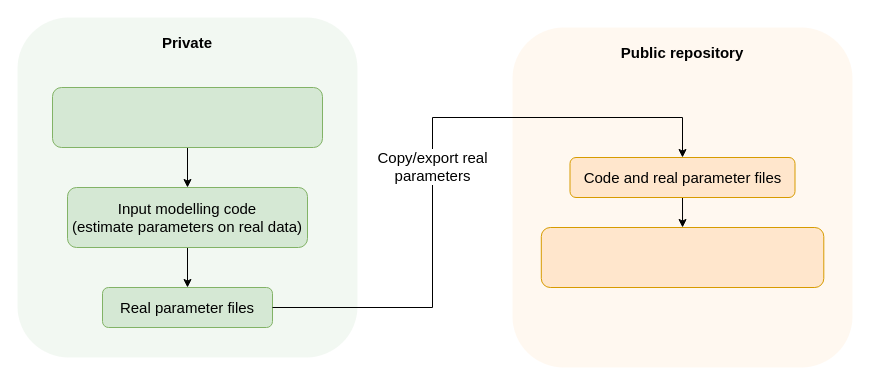
Image size: 869x384. Some labels were removed from this diagram. The shapes that lost their labels are listed below. From the top down, each one's centre as x and y in pixels, then its label:
(187,117): Secure raw data (database/private repo/other storage)
(682,257): Run model and publish results (fully reproducible with real parameters)
